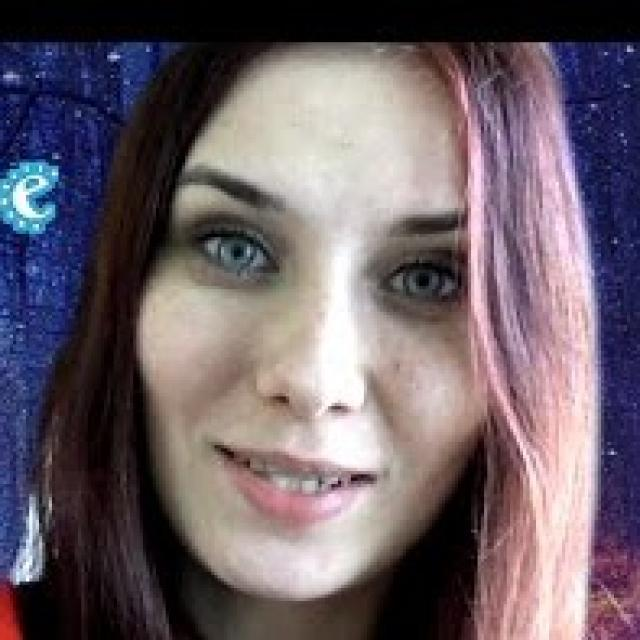Normal: (132, 47, 492, 599)
